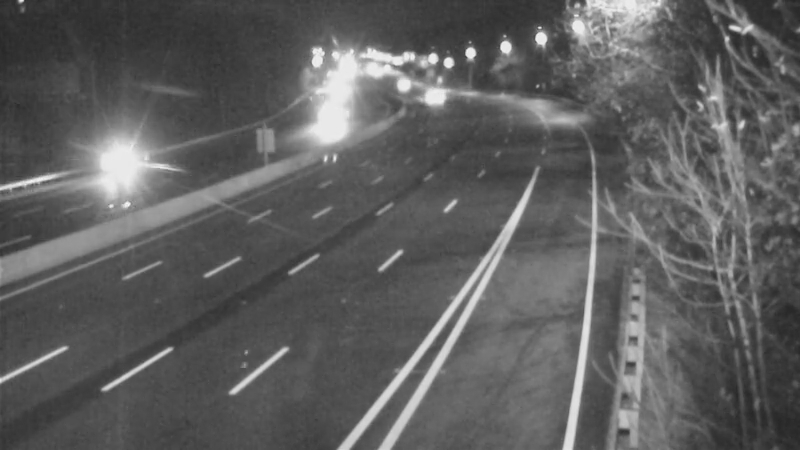vehicle: (74, 122, 154, 202), (377, 60, 427, 110), (407, 71, 457, 121), (303, 97, 353, 147)
